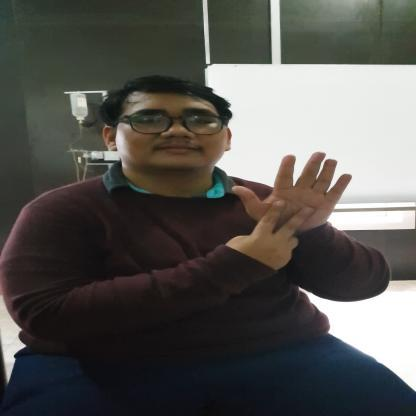N: (224, 148, 356, 262)
